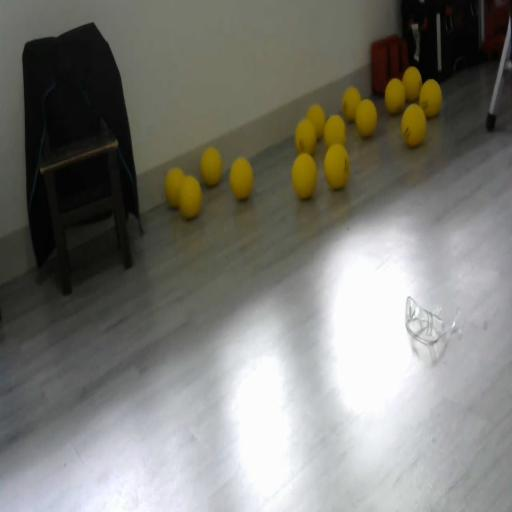FUEL: (290, 151, 318, 199), (323, 143, 349, 190), (228, 156, 254, 201), (400, 103, 426, 147), (354, 98, 378, 138), (164, 166, 186, 208), (419, 78, 442, 118), (200, 146, 222, 186), (385, 78, 406, 114), (324, 114, 346, 148), (306, 104, 326, 141), (402, 65, 422, 102)
